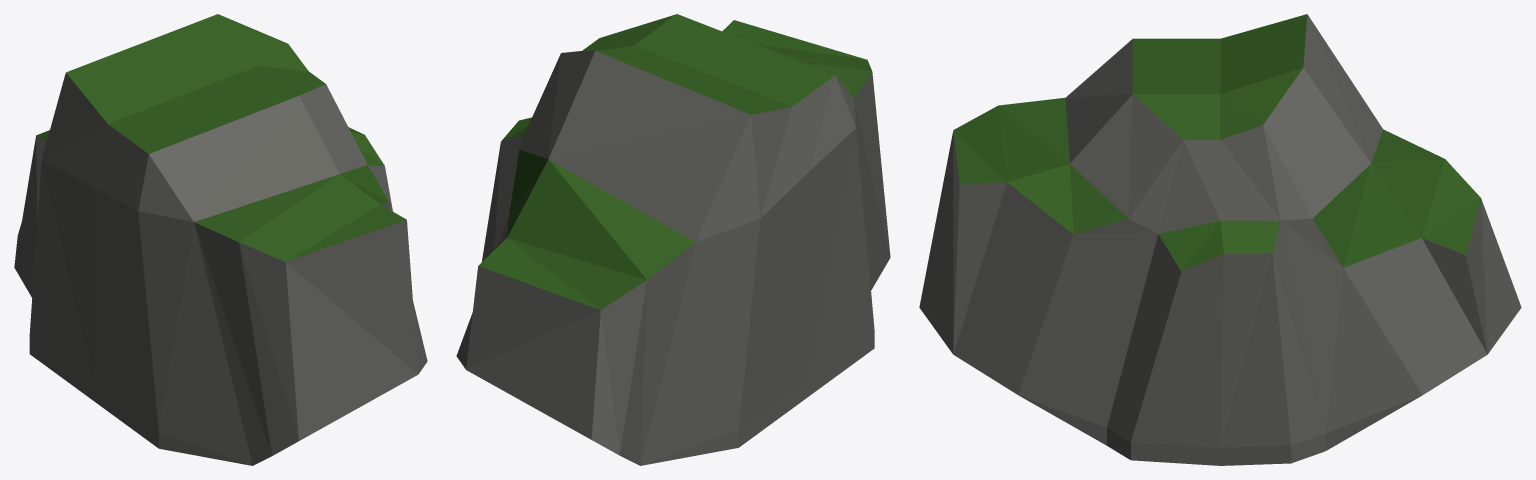
Rendered from rock_a.glb.
3 views of the same model, side by side, from view 1: azimuth 30°, elevation 25°; view 2: azimuth 150°, elevation 25°; view 3: azimuth 270°, elevation 25° (orthographic). The views are drawn at different scales.
Visible parts, largest first — view 1: rock_a; view 2: rock_a; view 3: rock_a.
Boxes of the visible parts, box(x1,y1,x2,y2) form: rock_a: box(14, 14, 427, 465); rock_a: box(456, 14, 890, 465); rock_a: box(919, 14, 1521, 465).
Size of the model in its own units: 0.7436 by 0.7836 by 1.25.
